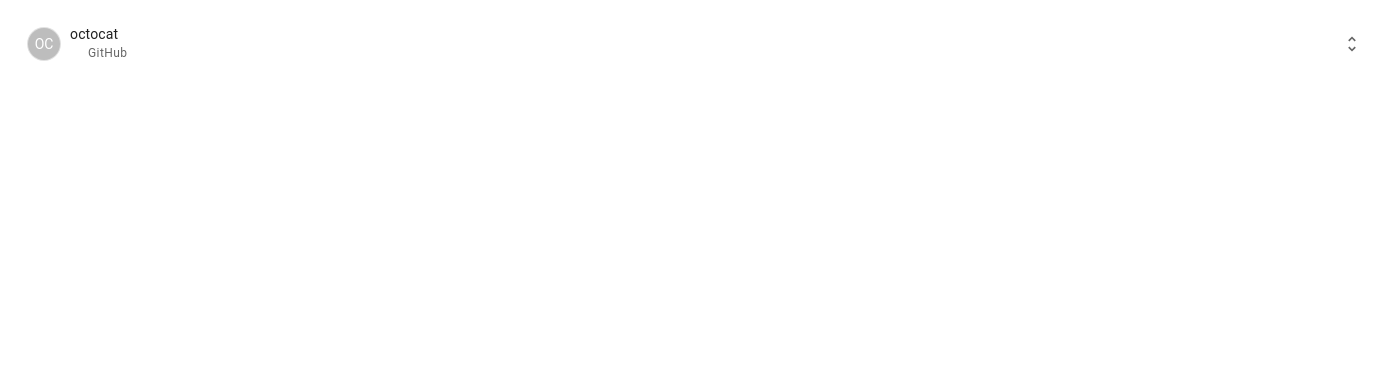
Test: Account › a source build names its release and its commit, and only the release links to its notes
This screenshot has width=1390, height=392.
Click the button "OC octocat GitHub" at (44, 44), box [12, 12, 1378, 76]
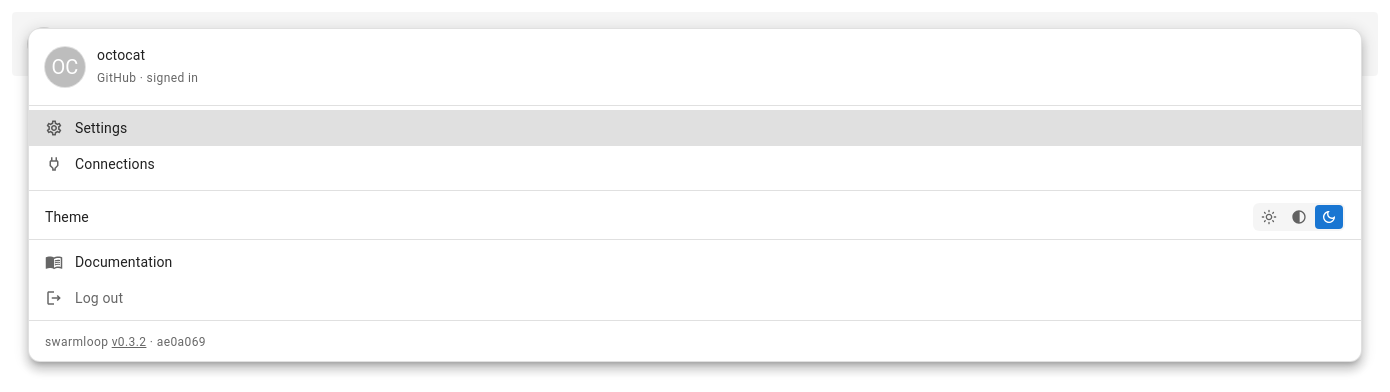
Check: the element showing "swarmloop v0.3.2 · ae0a069" is shown, box [45, 335, 206, 349]
